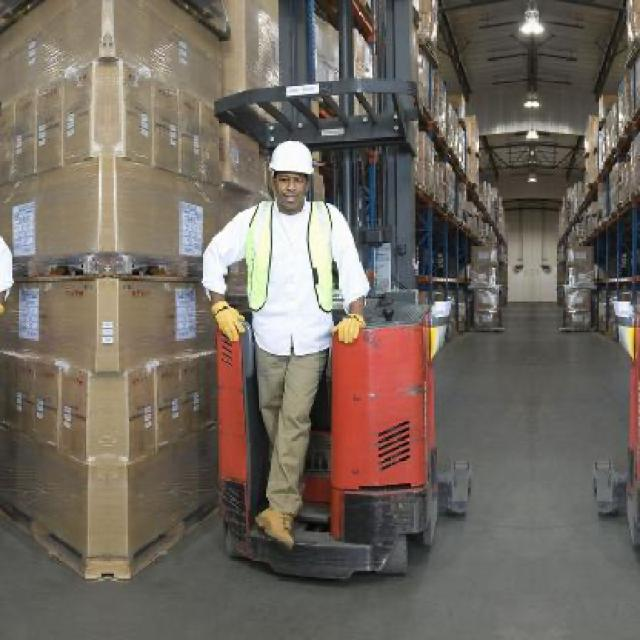con casco: (232, 128, 361, 247)
